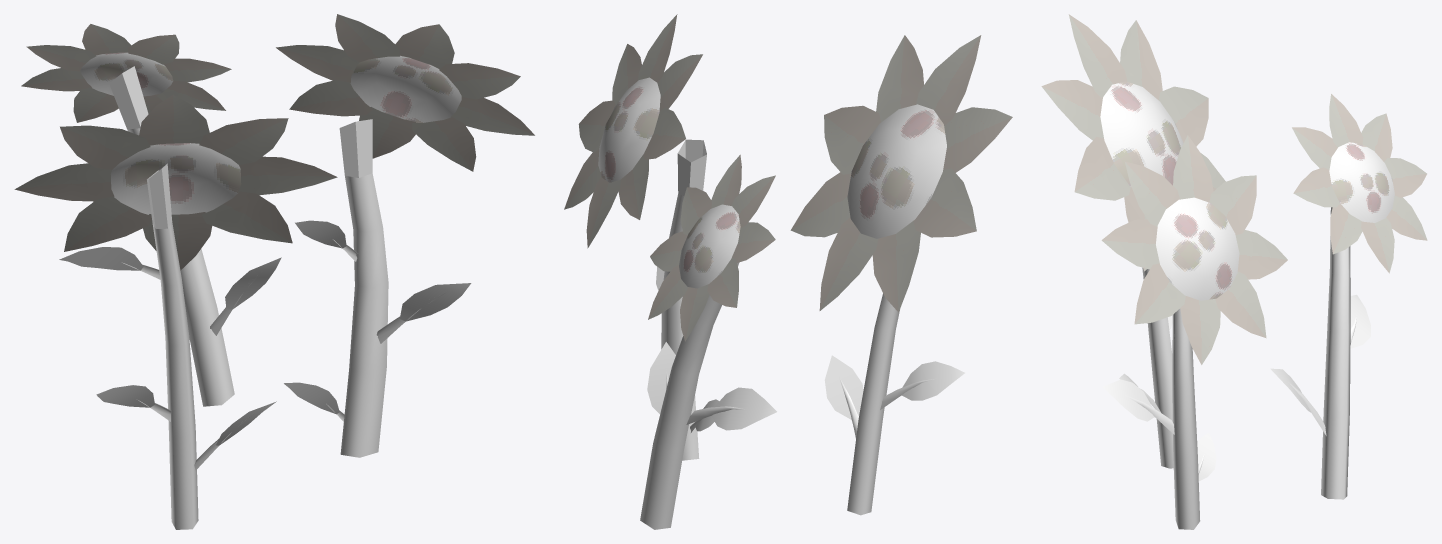
File: MoonFlowerPatch.fbx
3 views of the same model, side by side, from view 1: azimuth 30°, elevation 25°; view 2: azimuth 150°, elevation 25°; view 3: azimuth 270°, elevation 25° (orthographic). The views are drawn at different scales.
Parts seen in each view (by area): view 1: MoonFlowerHead (×3), MoonFlower (×3), MoonFlowerLeaf1 (×3), MoonFlowerLeaf2 (×3), MoonFlowerLeaf2 (1); view 2: MoonFlowerHead (×3), MoonFlower (×3), MoonFlowerLeaf2 (×2), MoonFlowerLeaf1 (×2); view 3: MoonFlowerHead (×3), MoonFlower (×3), MoonFlowerLeaf1 (×2), MoonFlowerLeaf2 (×2).
Boxes of the visible parts, box(x1,y1,x2,y2) form: MoonFlowerHead (×3): box(14, 14, 534, 270); MoonFlower (×3): box(109, 66, 388, 529); MoonFlowerLeaf1 (×3): box(194, 257, 471, 470); MoonFlowerLeaf2 (×3): box(59, 247, 344, 421); MoonFlowerLeaf2 (1): box(295, 220, 358, 261); MoonFlowerHead (×3): box(564, 14, 1012, 341); MoonFlower (×3): box(640, 139, 899, 529); MoonFlowerLeaf2 (×2): box(686, 361, 964, 430); MoonFlowerLeaf1 (×2): box(647, 342, 863, 438); MoonFlowerHead (×3): box(1041, 14, 1427, 364); MoonFlower (×3): box(1142, 207, 1350, 529); MoonFlowerLeaf1 (×2): box(1102, 368, 1326, 435); MoonFlowerLeaf2 (×2): box(1197, 294, 1370, 481).
Size of what is drawn, in the model's own units: 1.12 by 1.1 by 0.9147.
1 material, 1 textured.
